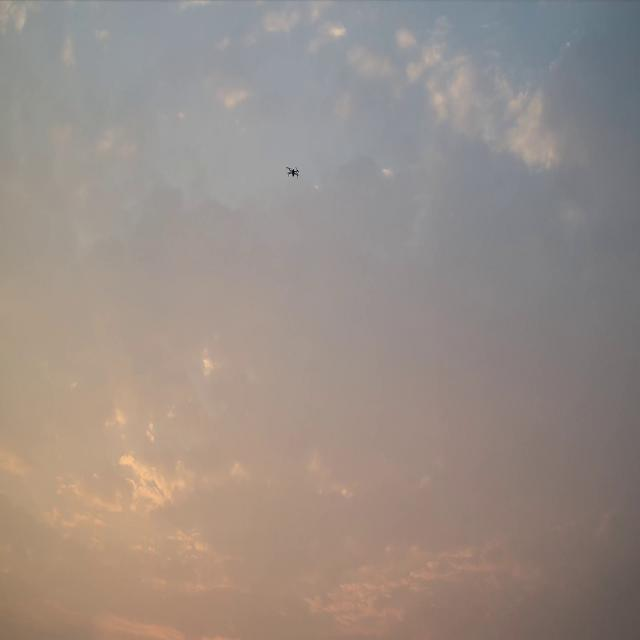UAV: (285, 164, 301, 179)
